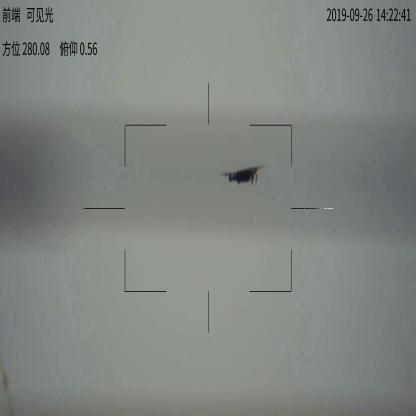uav: (223, 162, 266, 190)
